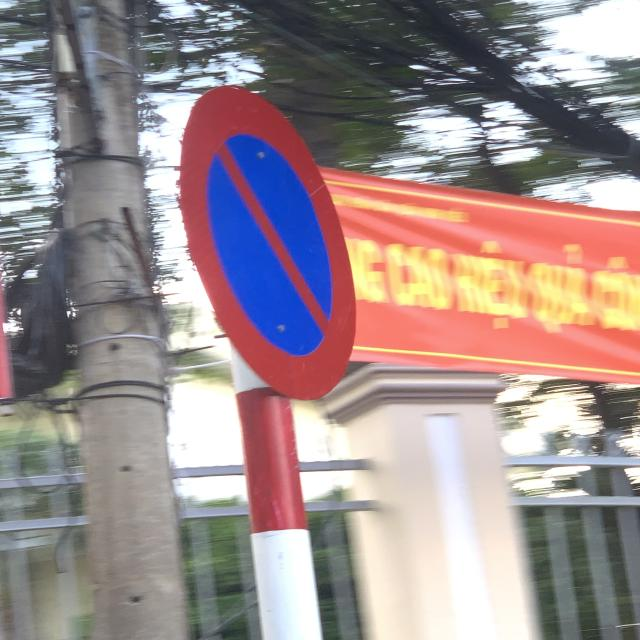Cam_Dau_Xe: (179, 86, 360, 404)
